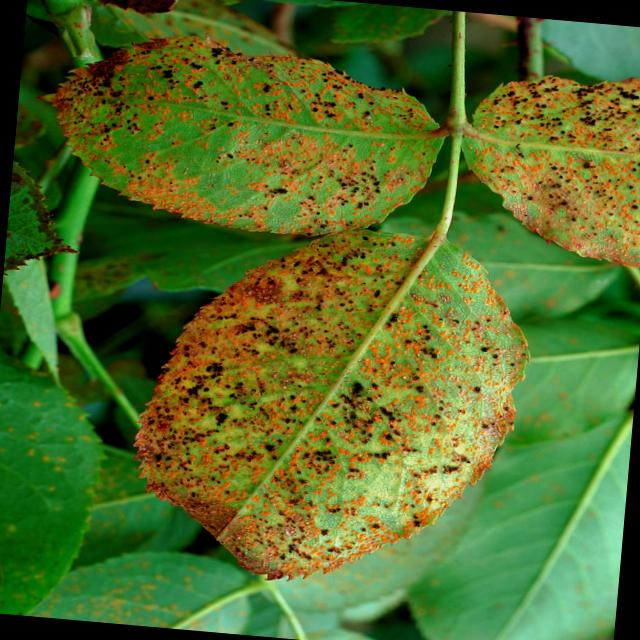leaf_rust: (137, 230, 527, 578), (53, 36, 440, 234), (464, 76, 640, 267)
